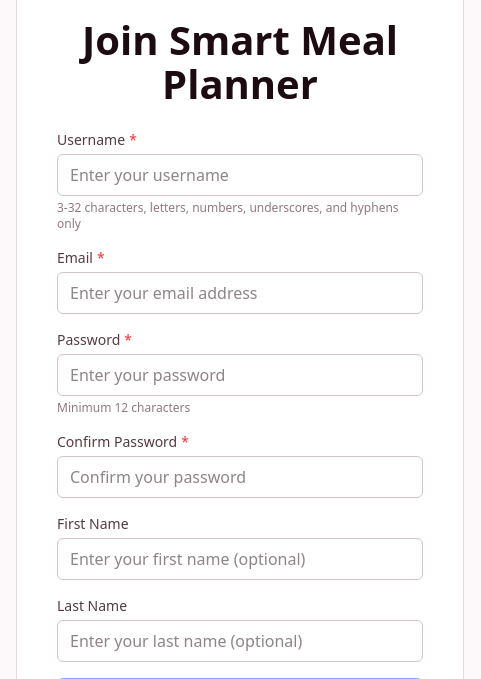
Test: RegisterPage › API Integration Tests › shows success state on successful registration
Fill in valid form data
Type "testuser" into the field labelled "Username*" at (240, 175), box [57, 154, 423, 196]
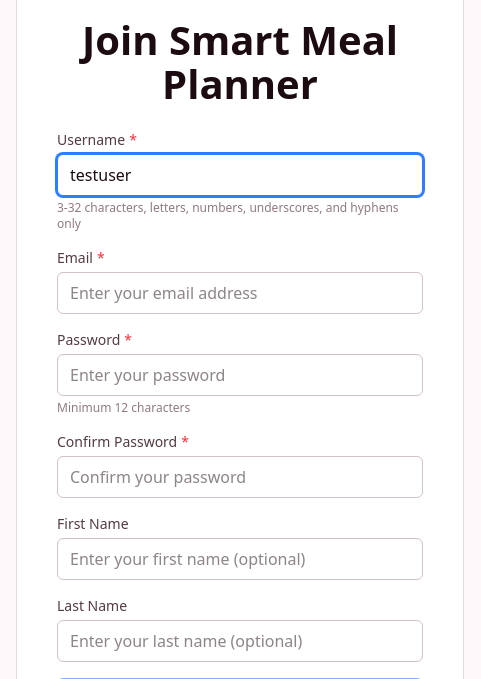
Type "test@example.com" into the field labelled "Email*" at (240, 293), box [57, 272, 423, 314]
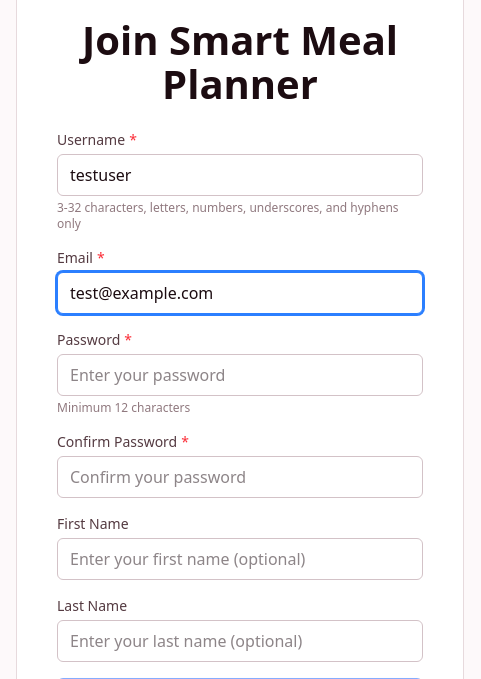
Type "password123456" into the password field labelled "Password*" at (240, 375), box [57, 354, 423, 396]
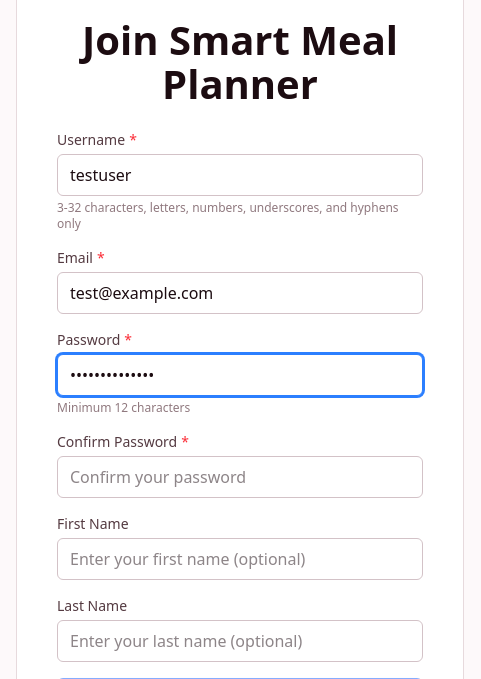
Type "password123456" into the password field labelled "Confirm Password*" at (240, 477), box [57, 456, 423, 498]
(page scrolled)
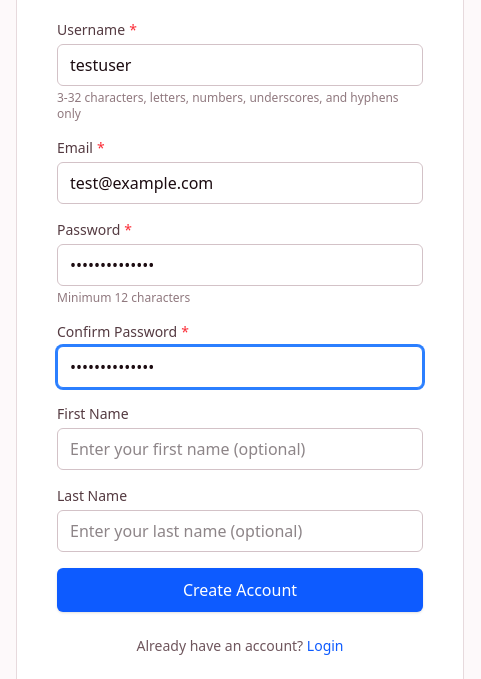
Click the button "Create Account" at (240, 590), box [57, 568, 423, 612]
(page scrolled)
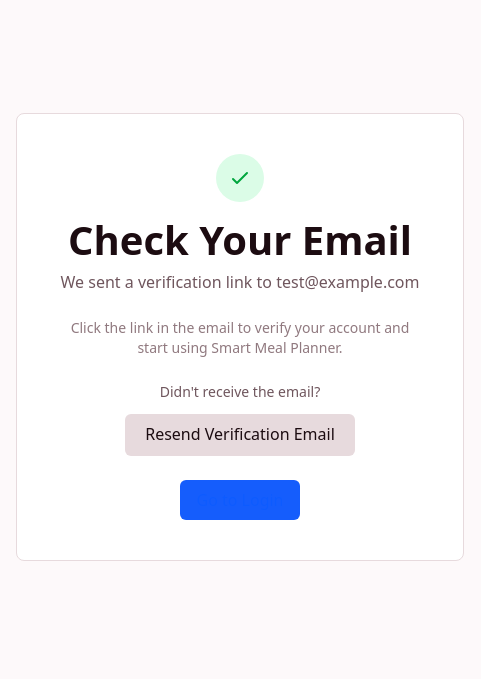
Expected: the heading "Check Your Email" is shown, [57, 218, 423, 262]
Expected: the text "test@example.com" is shown, [276, 271, 420, 293]
